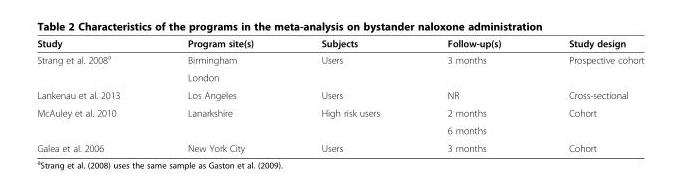table: (36, 37, 643, 153)
table column: (153, 37, 286, 153), (286, 37, 412, 153), (412, 37, 534, 153), (36, 37, 153, 153), (534, 37, 643, 153)
table column header: (36, 37, 643, 50)
table row: (36, 50, 643, 68), (36, 68, 643, 86), (36, 103, 643, 121), (36, 121, 643, 139), (36, 86, 643, 103), (36, 139, 643, 153), (36, 37, 643, 50)
table spanning cell: (153, 103, 286, 139), (286, 103, 412, 139), (36, 50, 153, 86), (36, 103, 153, 139), (534, 103, 643, 139)
